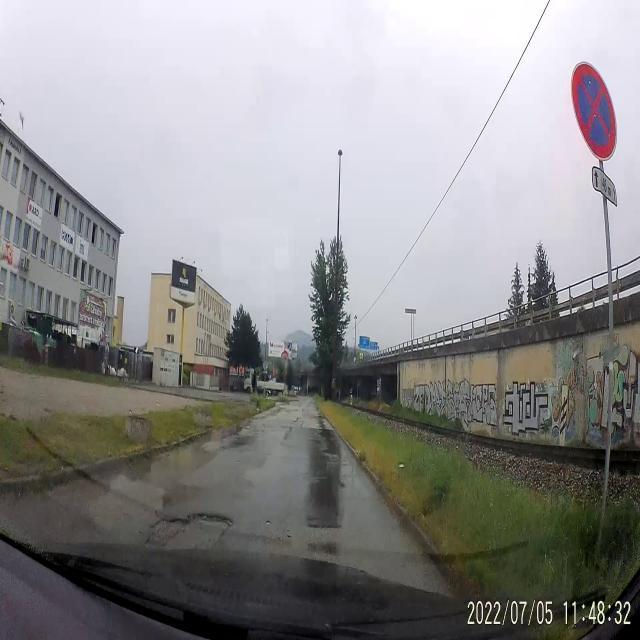Pothole: (145, 492, 233, 550)
